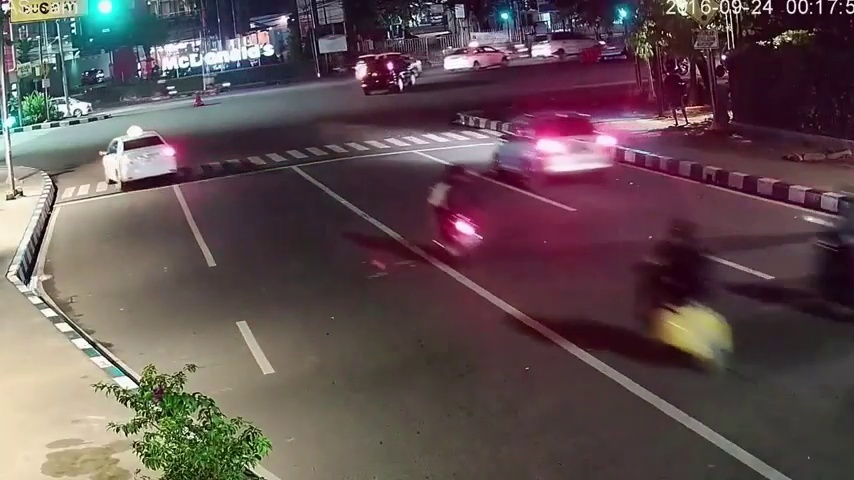car: (493, 113, 618, 188), (103, 129, 174, 183), (361, 52, 414, 94), (533, 30, 601, 60), (443, 44, 507, 70)
motorbike: (635, 223, 732, 375), (426, 164, 488, 262), (814, 192, 854, 321)
